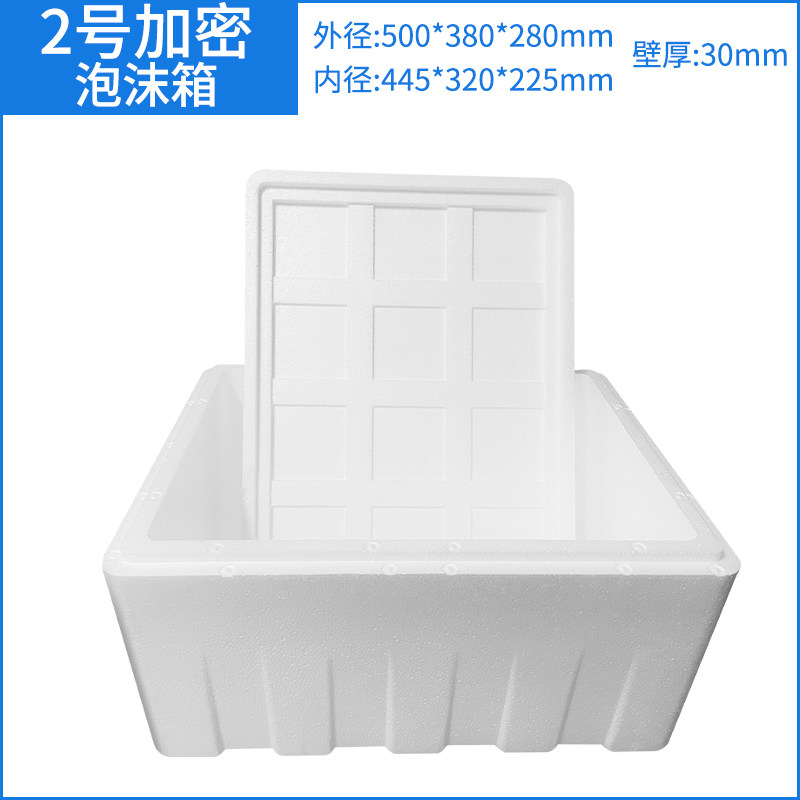泡沫箱: (104, 172, 739, 757)
